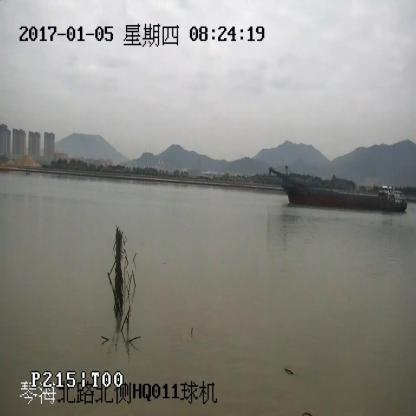Bulk Carrier: (269, 168, 407, 212)
